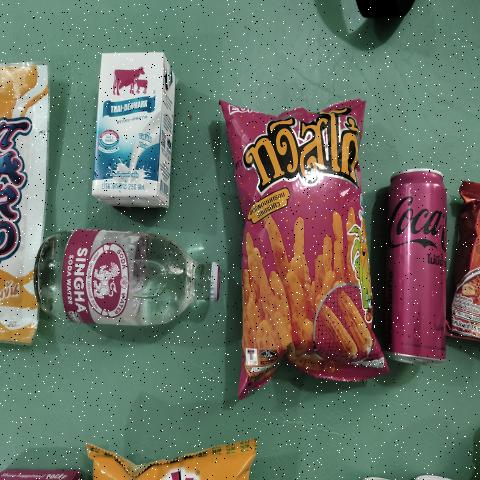coke_red: (386, 166, 451, 374)
singha_soda: (35, 231, 222, 330)
thai_denmark: (91, 48, 170, 208)
twisco: (238, 111, 364, 375)
